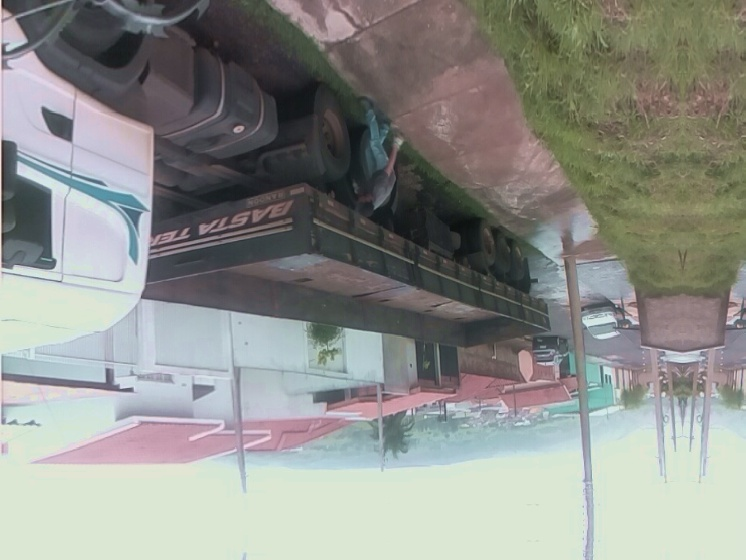person: (349, 95, 406, 218)
